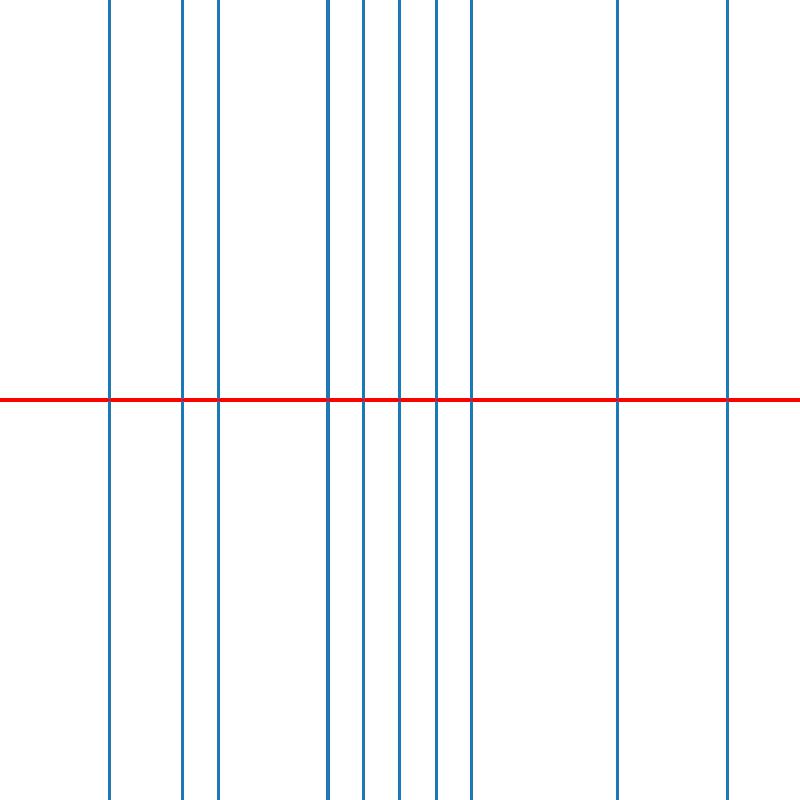root: (432, 396, 440, 404), (323, 396, 330, 404), (469, 396, 476, 404), (360, 396, 367, 404), (723, 396, 730, 404), (105, 396, 112, 404), (396, 396, 403, 404), (214, 396, 221, 404), (614, 396, 621, 404), (178, 396, 185, 404)
